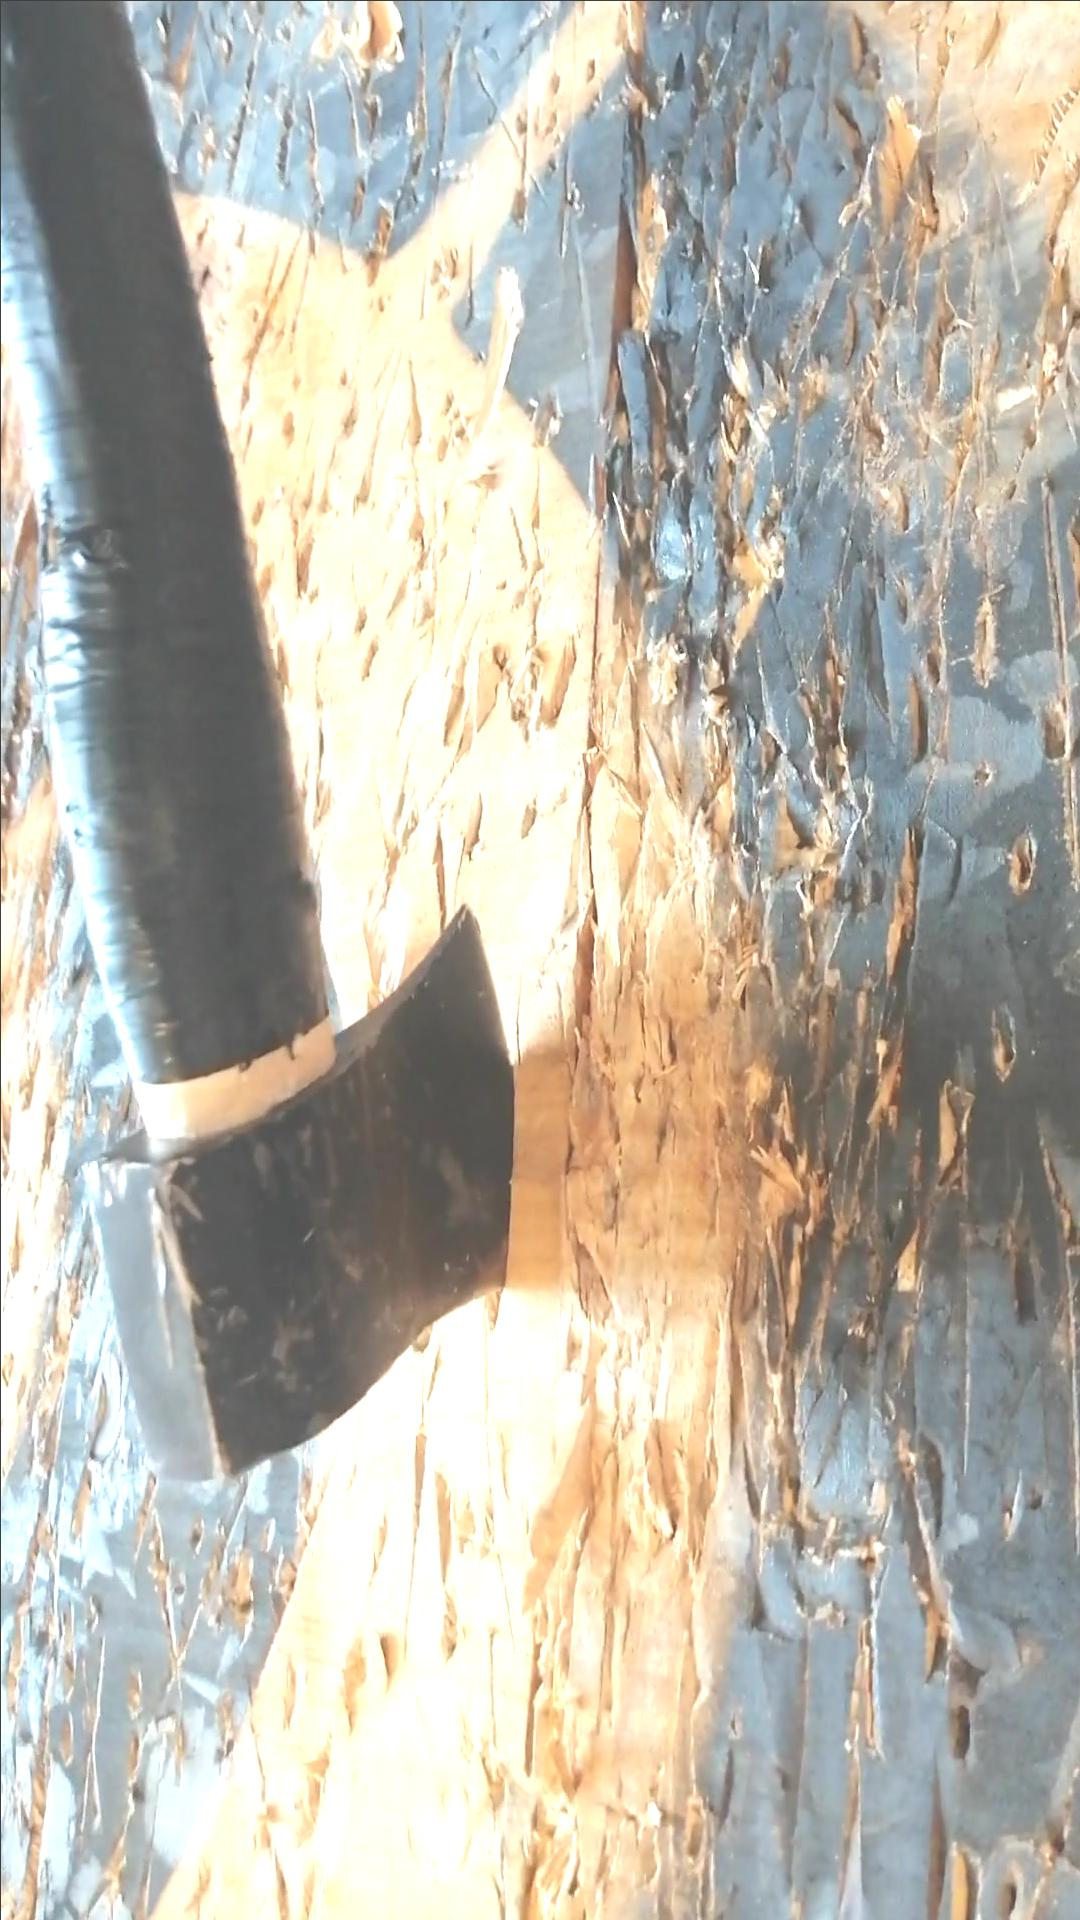Hand Axe: (76, 899, 520, 1485)
